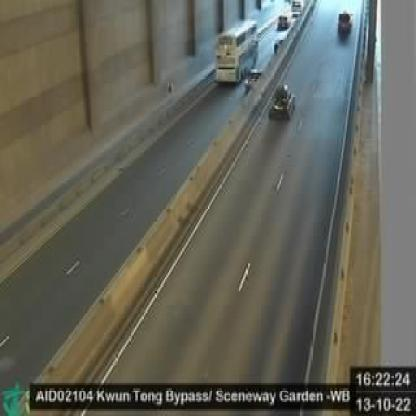Bus: (216, 17, 259, 85)
Car: (267, 80, 297, 122), (275, 13, 291, 33)
